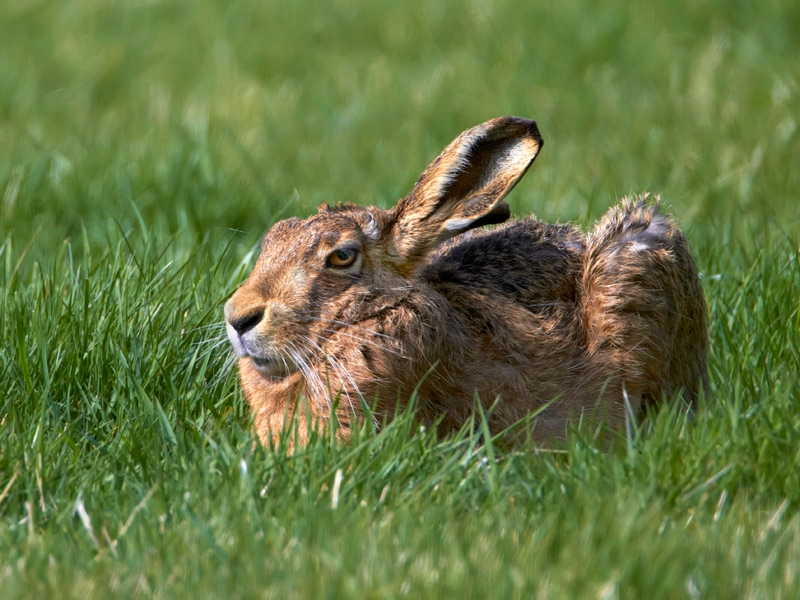bunny: (198, 101, 725, 478)
